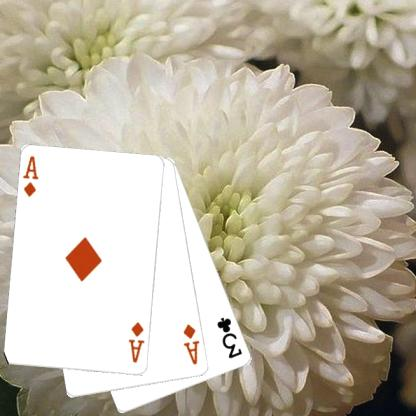3C: (214, 314, 244, 360)
AD: (181, 322, 201, 366), (126, 320, 146, 364), (21, 154, 40, 198)
